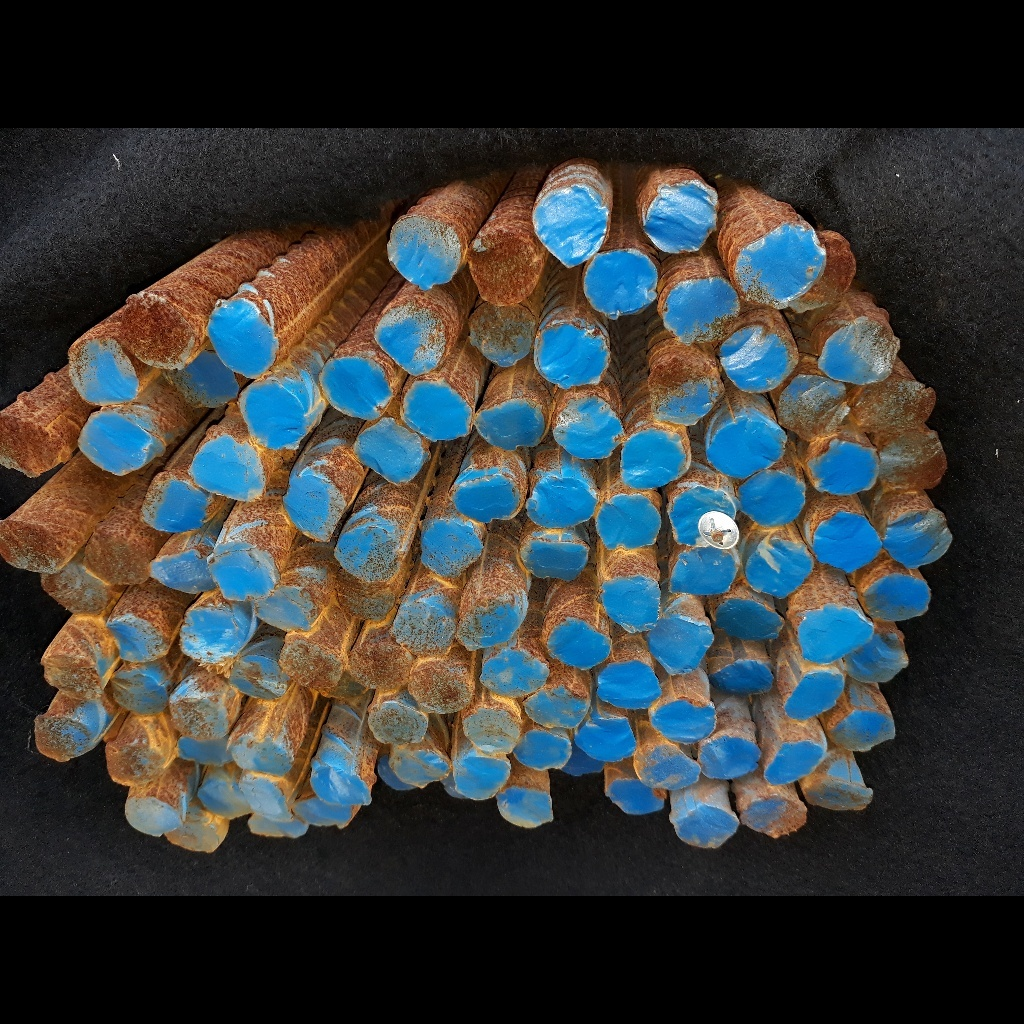dipstick: (735, 225, 824, 311), (120, 290, 205, 370), (534, 188, 608, 268), (387, 214, 462, 289), (643, 180, 719, 252), (819, 314, 897, 383), (207, 301, 276, 378), (706, 412, 786, 478), (536, 317, 610, 386), (793, 232, 856, 312), (375, 305, 446, 375), (582, 250, 657, 315), (471, 233, 537, 306), (719, 326, 789, 394), (355, 419, 426, 486), (319, 356, 392, 420), (67, 341, 140, 405), (809, 512, 884, 574), (848, 381, 936, 433), (647, 356, 715, 423), (239, 380, 307, 447), (666, 279, 739, 341), (75, 414, 151, 473), (779, 373, 849, 437), (553, 395, 623, 459), (168, 349, 241, 410), (876, 428, 948, 489), (797, 605, 874, 661), (399, 382, 474, 439), (467, 302, 533, 365), (885, 508, 952, 570), (745, 536, 814, 594), (806, 439, 877, 495), (206, 544, 277, 600), (180, 604, 243, 667), (737, 471, 807, 527), (670, 484, 734, 545), (83, 529, 150, 587), (419, 519, 484, 578), (40, 565, 112, 618), (804, 757, 873, 812), (471, 397, 543, 449), (1, 516, 63, 576), (526, 476, 596, 529), (620, 431, 686, 487), (408, 656, 474, 712), (1, 416, 56, 483), (333, 524, 397, 581), (860, 574, 934, 623), (849, 628, 909, 688), (545, 617, 614, 669), (597, 495, 661, 551), (141, 478, 207, 532), (651, 616, 710, 676), (391, 601, 454, 657), (669, 544, 738, 595), (603, 576, 662, 635), (454, 469, 519, 521), (636, 741, 702, 791), (348, 639, 411, 691), (517, 533, 588, 579), (277, 641, 342, 691), (695, 733, 763, 780), (147, 548, 212, 597), (478, 648, 547, 694), (649, 695, 717, 741), (785, 670, 844, 723), (42, 649, 103, 700), (598, 661, 660, 710), (713, 597, 785, 639), (456, 599, 518, 647), (833, 705, 896, 752), (308, 765, 375, 809), (674, 802, 738, 848), (524, 682, 588, 728), (337, 569, 393, 620), (741, 794, 807, 837), (765, 736, 824, 784), (169, 694, 229, 741), (121, 793, 186, 836), (238, 772, 291, 824), (369, 701, 430, 746), (105, 615, 163, 662), (574, 716, 633, 762), (494, 784, 554, 829), (454, 755, 512, 801), (463, 706, 519, 753), (31, 715, 87, 761), (511, 727, 573, 768), (161, 810, 220, 853), (110, 674, 167, 717), (711, 660, 775, 698), (230, 655, 286, 698), (393, 750, 450, 790), (105, 742, 156, 785), (173, 734, 237, 768), (229, 738, 293, 771), (256, 596, 311, 634), (293, 794, 353, 827), (197, 778, 249, 816), (608, 779, 665, 813), (248, 812, 309, 838), (558, 745, 605, 778), (376, 756, 414, 794)
